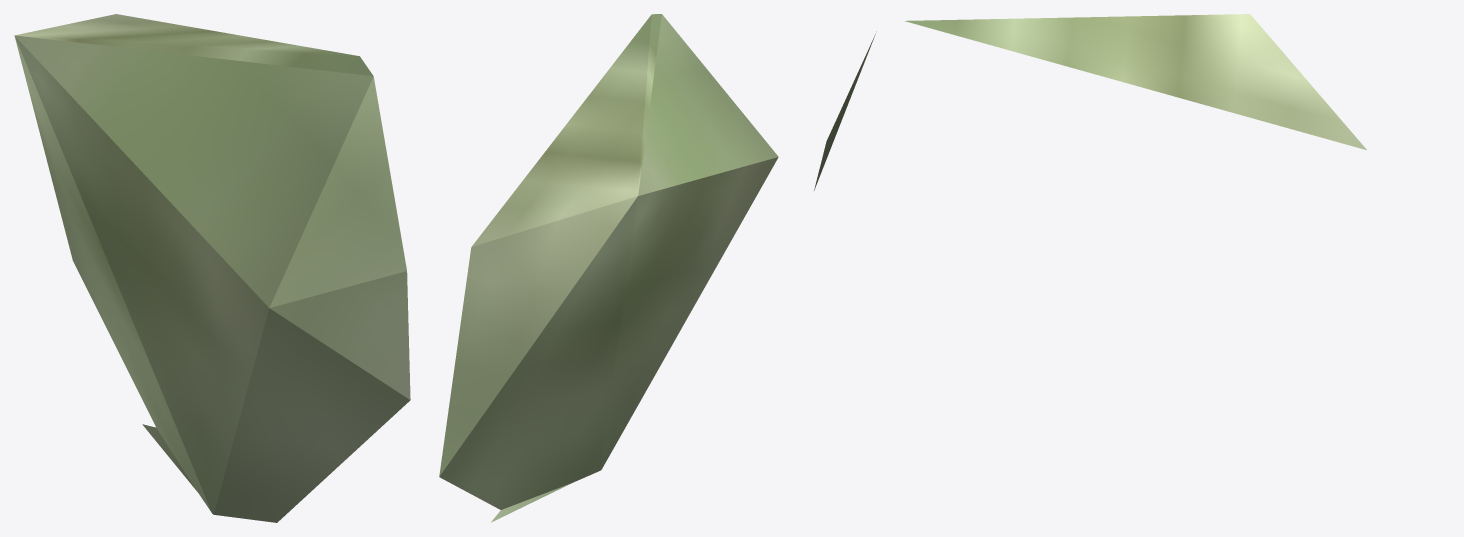
3 views of the same model, side by side, from view 1: azimuth 30°, elevation 25°; view 2: azimuth 150°, elevation 25°; view 3: azimuth 270°, elevation 25° (orthographic). The views are drawn at different scales.
Size of the model in its own units: 0.3109 by 0.9585 by 1.11.
1 material, 1 textured.
